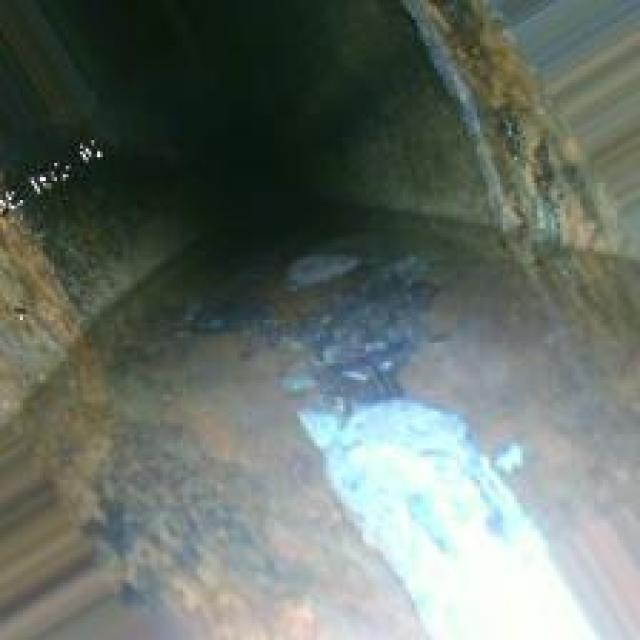stone: (274, 294, 480, 537)
